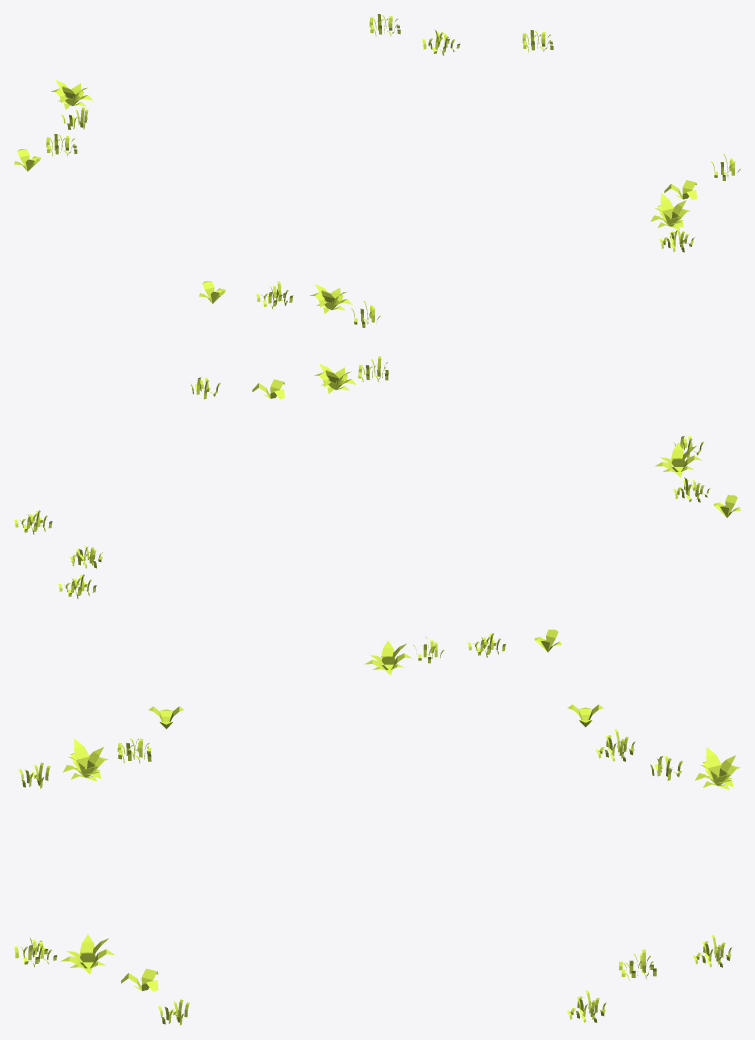
File: Tile_Road_Crosroad_Grass.fbx
3 renders of one model, top to bottom at view 1: azimuth 30°, elevation 25°; view 2: azimuth 150°, elevation 25°; view 3: azimuth 270°, elevation 25°, orthographic. The views are drawn at different scales.
Parts seen in each view (by area): view 1: plant_bushDetailed.014; view 2: plant_bushDetailed.014; view 3: plant_bushDetailed.014.
Part boxes in pixels (x1,y1,x2,y2): plant_bushDetailed.014: (14,14,740,327); plant_bushDetailed.014: (14,356,740,675); plant_bushDetailed.014: (14,704,740,1025).
Size of the model in its own units: 244 by 11.18 by 244.
